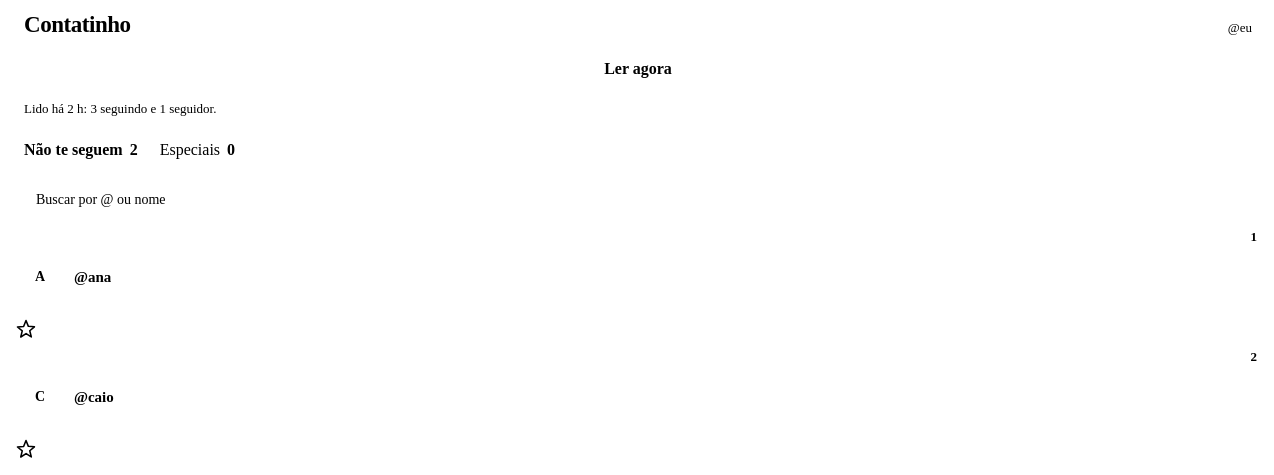
Scenario: App › o número do quadro não muda na busca
This screenshot has width=1274, height=475.
Expected: the text "@caio" is shown, x1=74 y1=389 x2=114 y2=406
In the search field labelled "Buscar": [638, 200] box x1=24 y1=183 x2=1252 y2=217, type "caio"
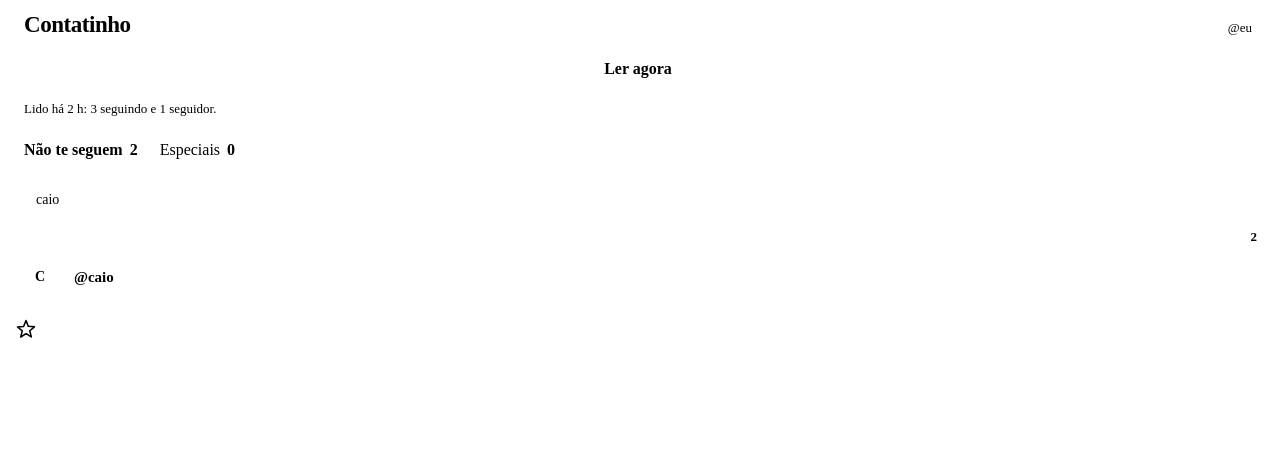
Expected: the button "@ana" is gone
